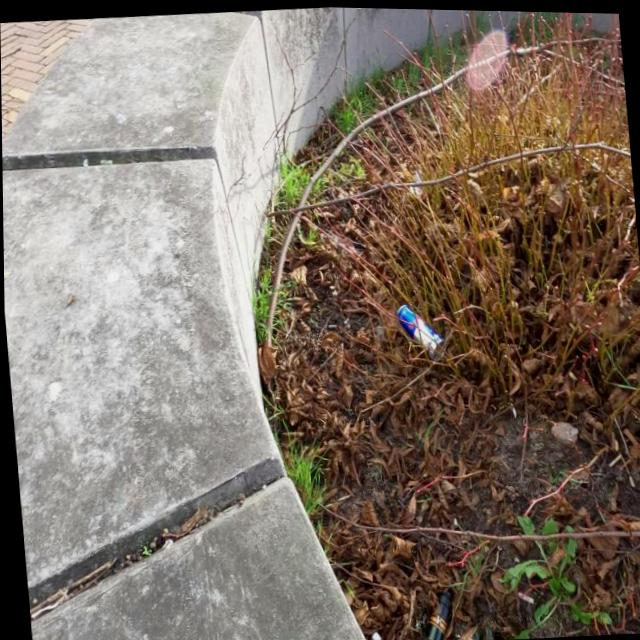Can-Metal: (394, 298, 444, 353)
